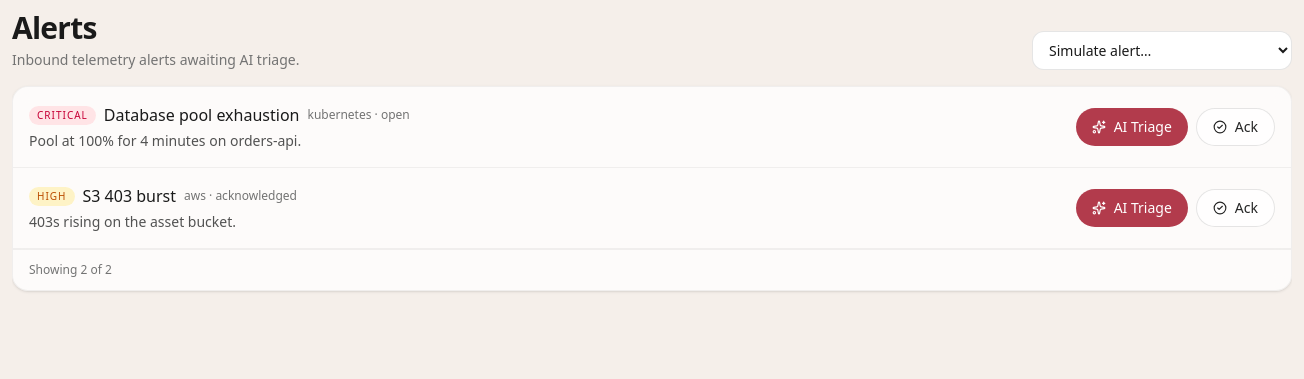
Test case: reports a triage failure instead of leaving the card blank
Click the button "AI Triage" in the row of "open".
click(1132, 127)  # box [1076, 108, 1188, 146]
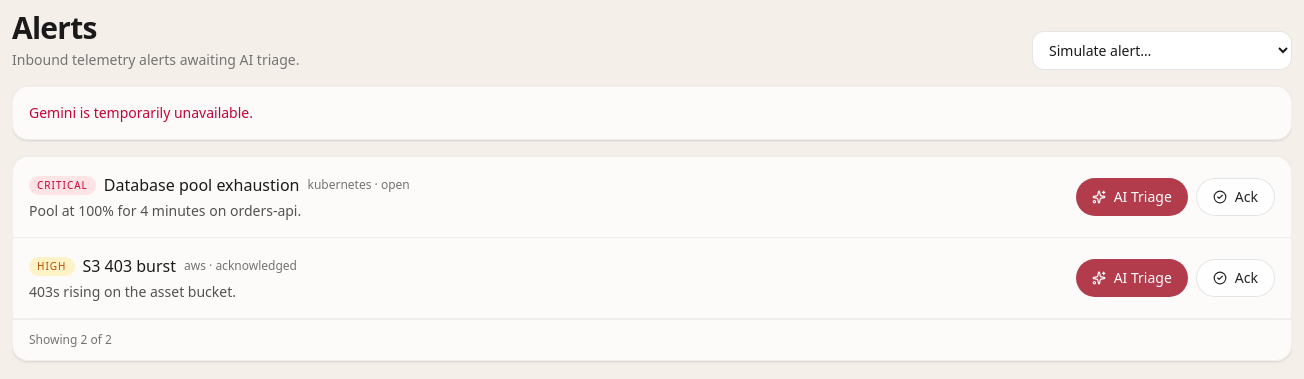
Check: the text "Gemini is temporarily unavailable." is shown, box [12, 86, 1292, 140]
